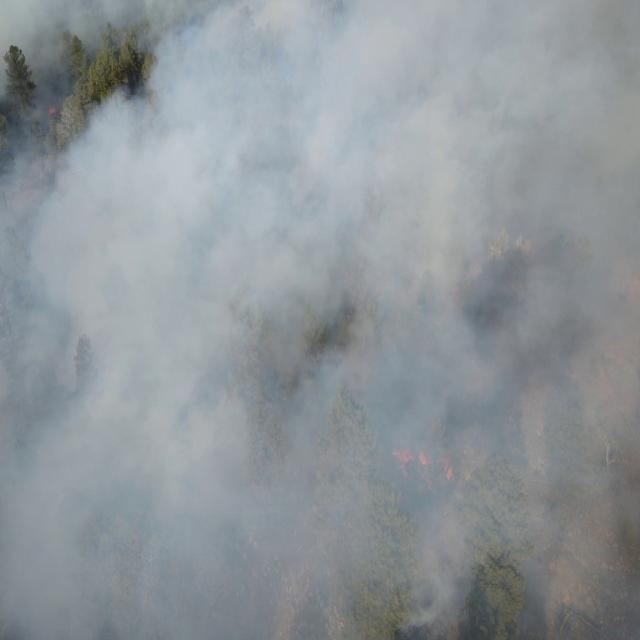fire: (395, 446, 433, 485), (440, 453, 457, 488), (45, 102, 62, 119)
smoke: (0, 0, 640, 640)
